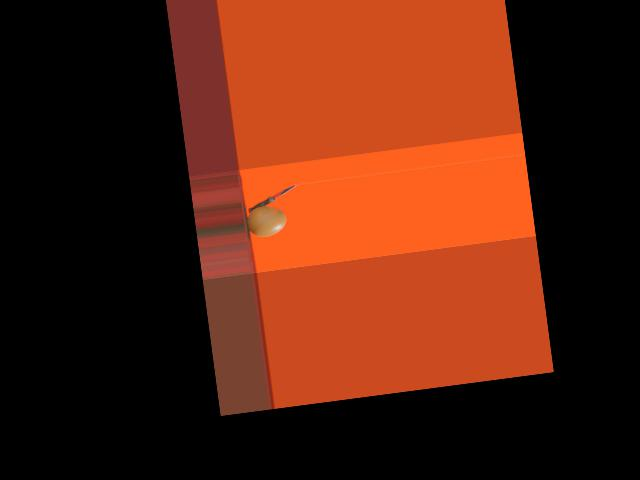egg: (245, 203, 287, 238)
